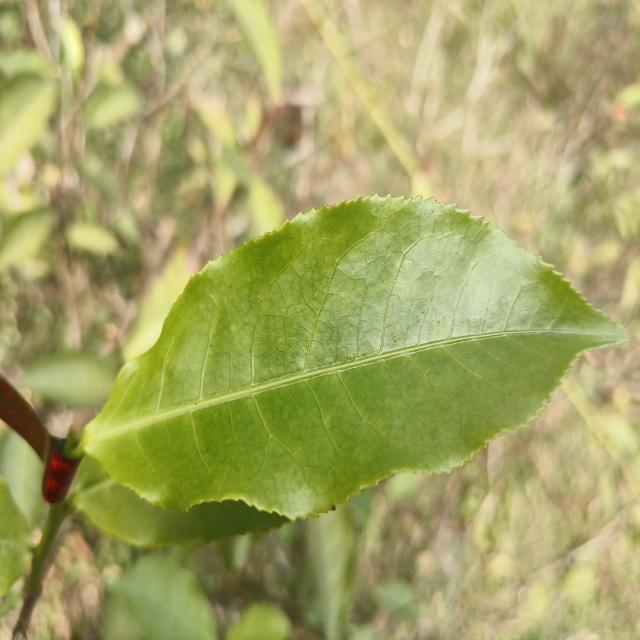Leaf: (80, 196, 625, 518), (113, 555, 217, 640), (308, 504, 355, 640), (228, 0, 282, 104), (0, 76, 56, 174), (22, 352, 117, 407), (0, 476, 30, 596), (0, 210, 55, 269)
